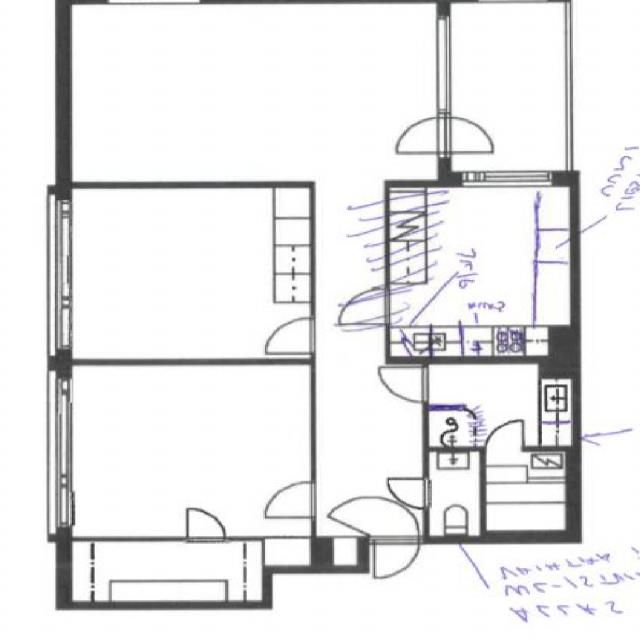door: (438, 116, 496, 152), (394, 116, 452, 152), (375, 536, 419, 579), (375, 501, 419, 543), (267, 481, 315, 517), (268, 317, 316, 353), (380, 366, 428, 402), (385, 477, 428, 508), (188, 508, 224, 541), (488, 418, 524, 450)
